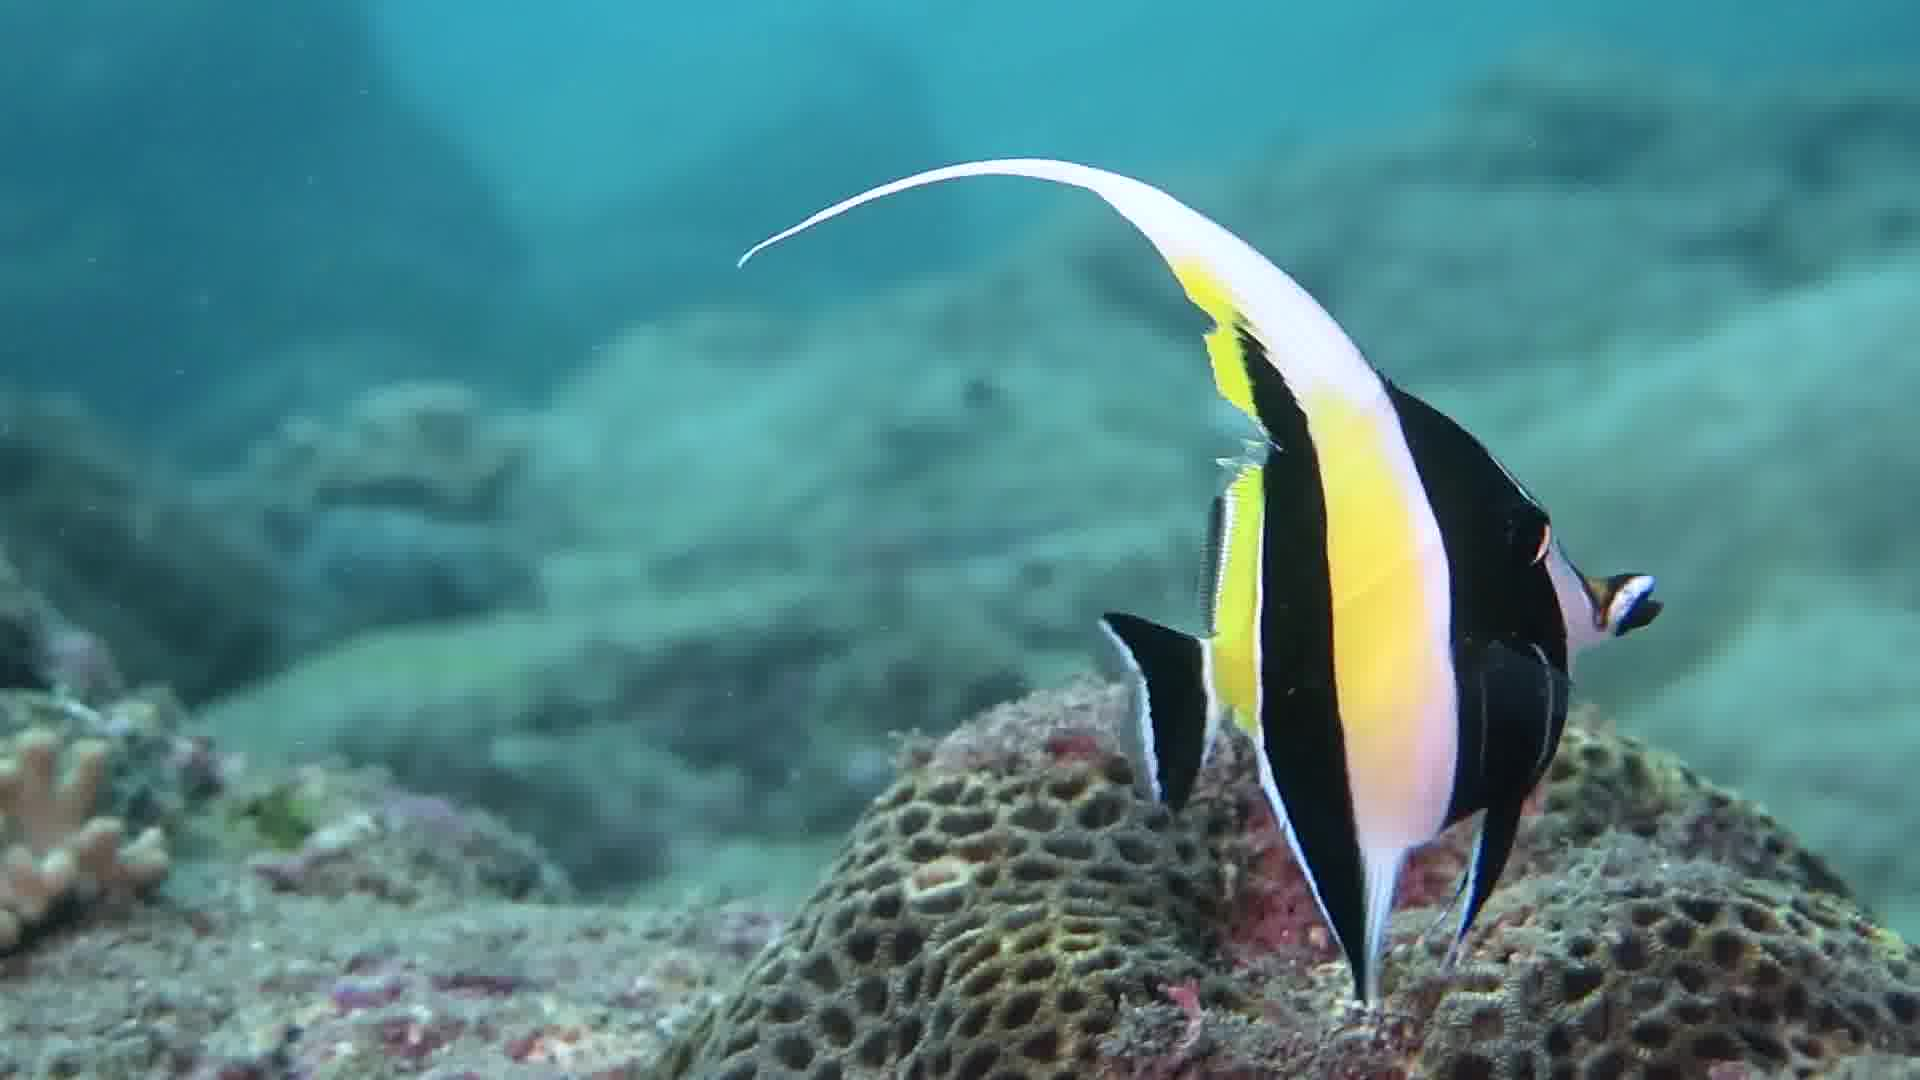Zanclus cornutus: (984, 233, 1713, 955)
